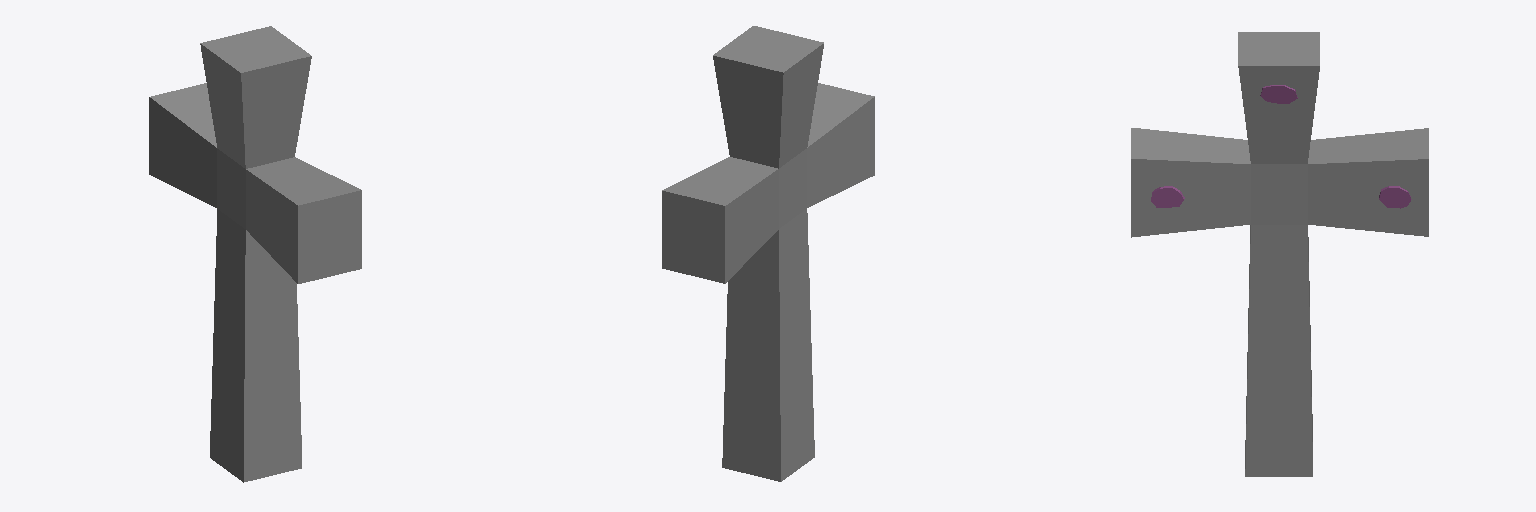
3 renders of one model, left to right at view 1: azimuth 30°, elevation 25°; view 2: azimuth 150°, elevation 25°; view 3: azimuth 270°, elevation 25°, orthographic.
Visible parts, largest first — view 1: 十字架埋まっている; view 2: 十字架埋まっている; view 3: 十字架埋まっている.
Part boxes in pixels (x1,y1,x2,y2): 十字架埋まっている: (149,26,361,482); 十字架埋まっている: (662,26,874,481); 十字架埋まっている: (1131,32,1428,476).
Bounding box in the file's own units: 1.1 × 6.1 × 3.99.
Materials: 1 (1 with a texture image).